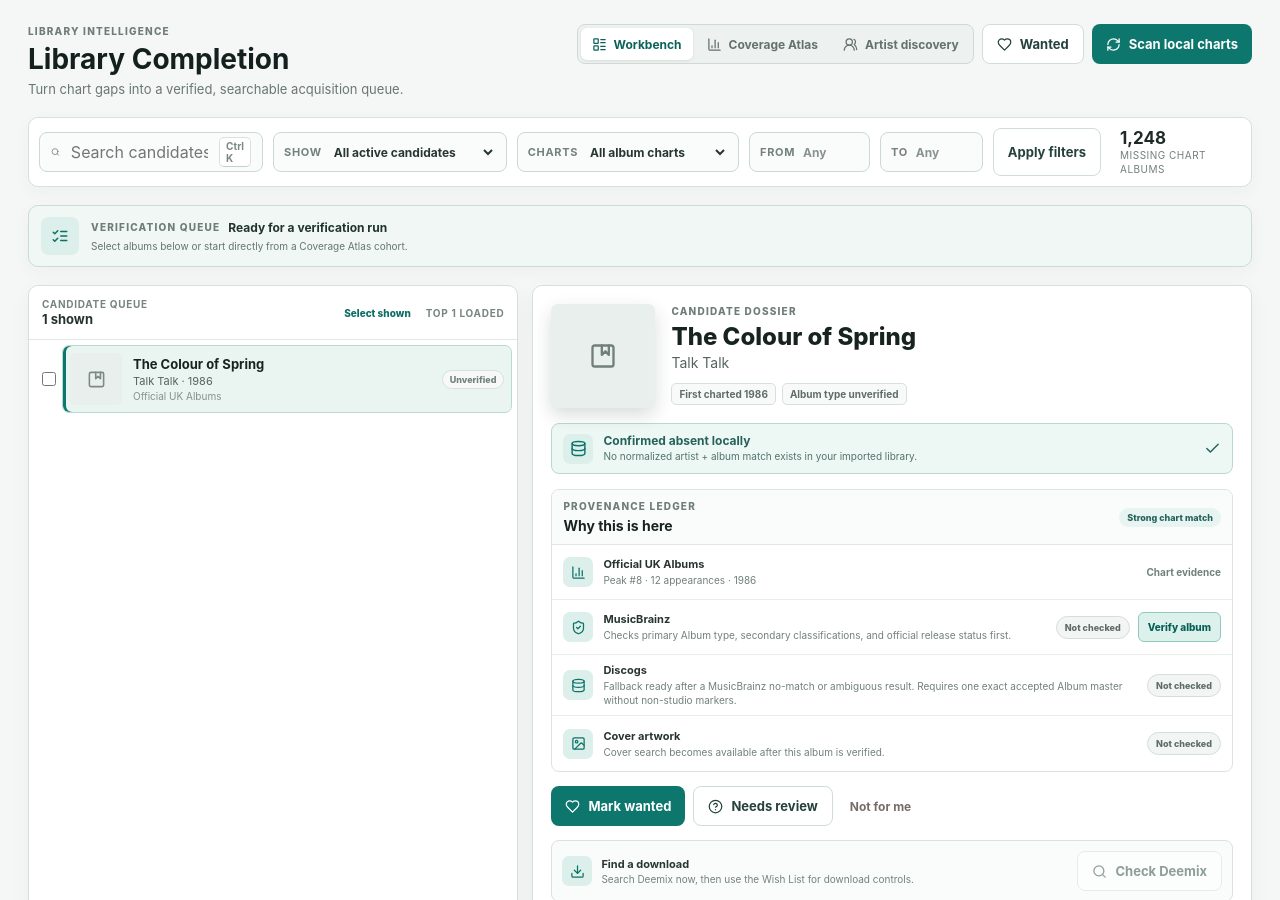
Test: LibraryCompletionWorkspace › moves from an Atlas cohort into a filtered Workbench campaign
The width and height of the screenshot is (1280, 900).
Check: the heading "The Colour of Spring" is shown, box [671, 322, 916, 351]
Click the button "Coverage Atlas": (762, 44) [696, 28, 829, 60]
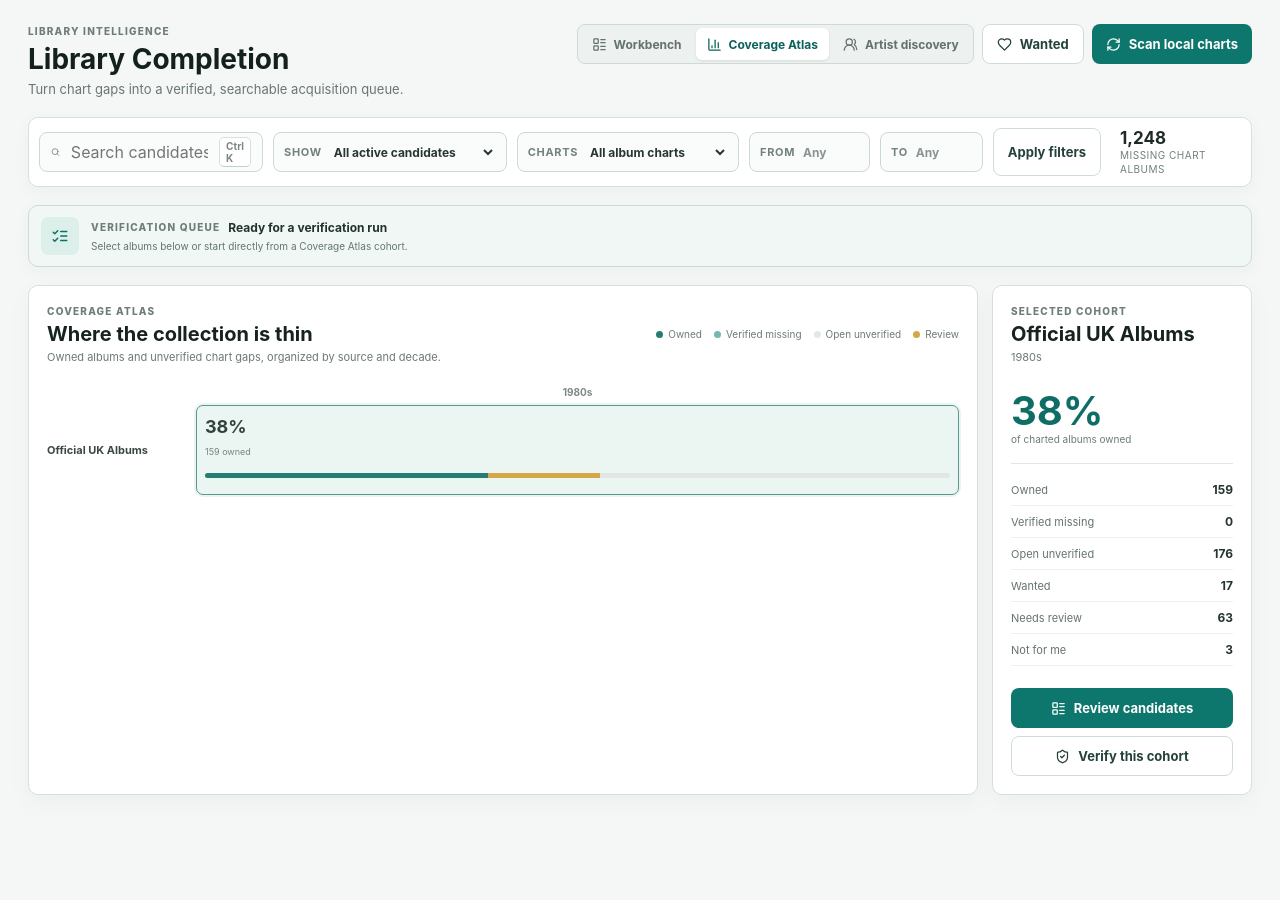
Check: the heading "Where the collection is thin" is shown, box [47, 322, 313, 346]
Click the button "Review candidates": (1122, 708) [1011, 688, 1233, 728]
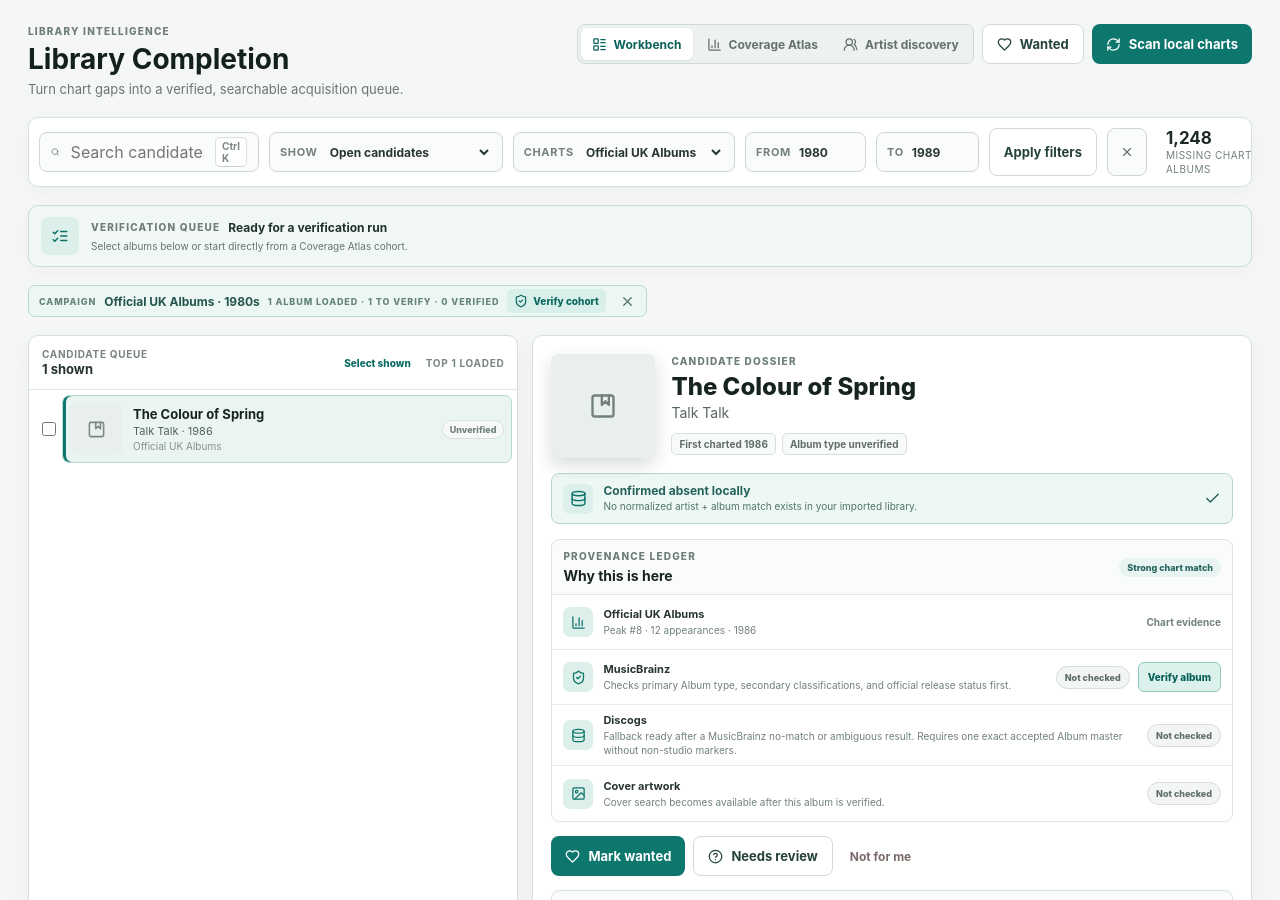
Check: the text "Campaign" is shown, box [39, 296, 96, 306]
Check: the text "Official UK Albums · 1980s" is shown, box [104, 294, 260, 308]
Check: the text "1 album loaded · 1 to verify · 0 verified" is shown, box [268, 296, 499, 306]
